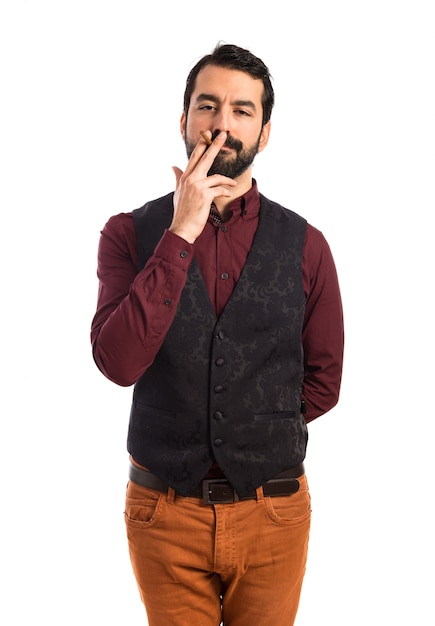cigarette: (199, 128, 214, 144)
